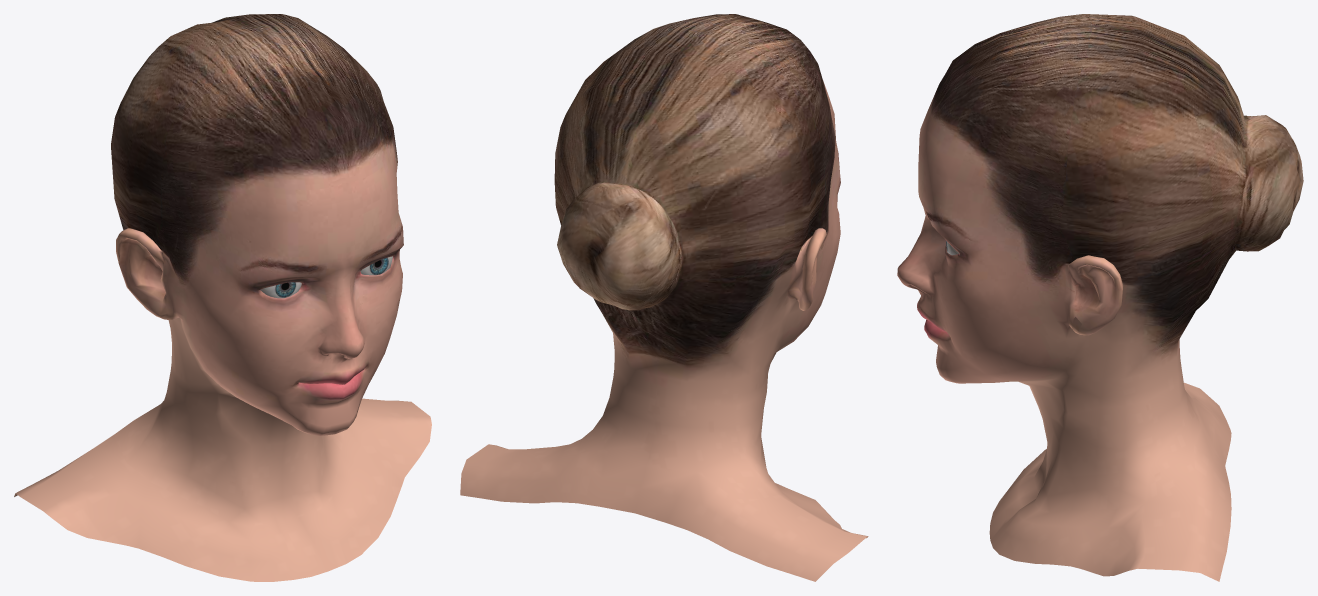
The model's file is Woman.fbx.
3 views of the same model, side by side, from view 1: azimuth 30°, elevation 25°; view 2: azimuth 150°, elevation 25°; view 3: azimuth 270°, elevation 25° (orthographic). The views are drawn at different scales.
Parts seen in each view (by area): view 1: Head, Eye; view 2: Head; view 3: Head.
Part boxes in pixels (box(x1,y1,x2,y2)): Head: box(14, 14, 431, 581); Eye: box(260, 256, 392, 298); Head: box(460, 14, 868, 581); Head: box(897, 14, 1303, 581).
Size of the model in its own units: 24.64 by 30.7 by 22.31.
